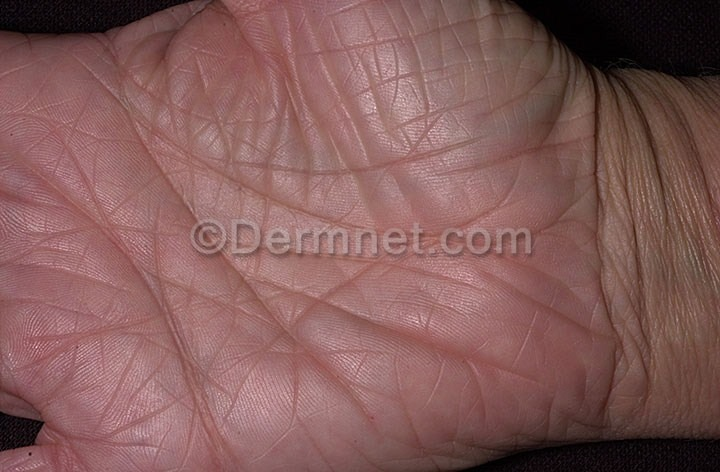Eczema: (1, 177, 126, 464), (182, 1, 363, 98)
